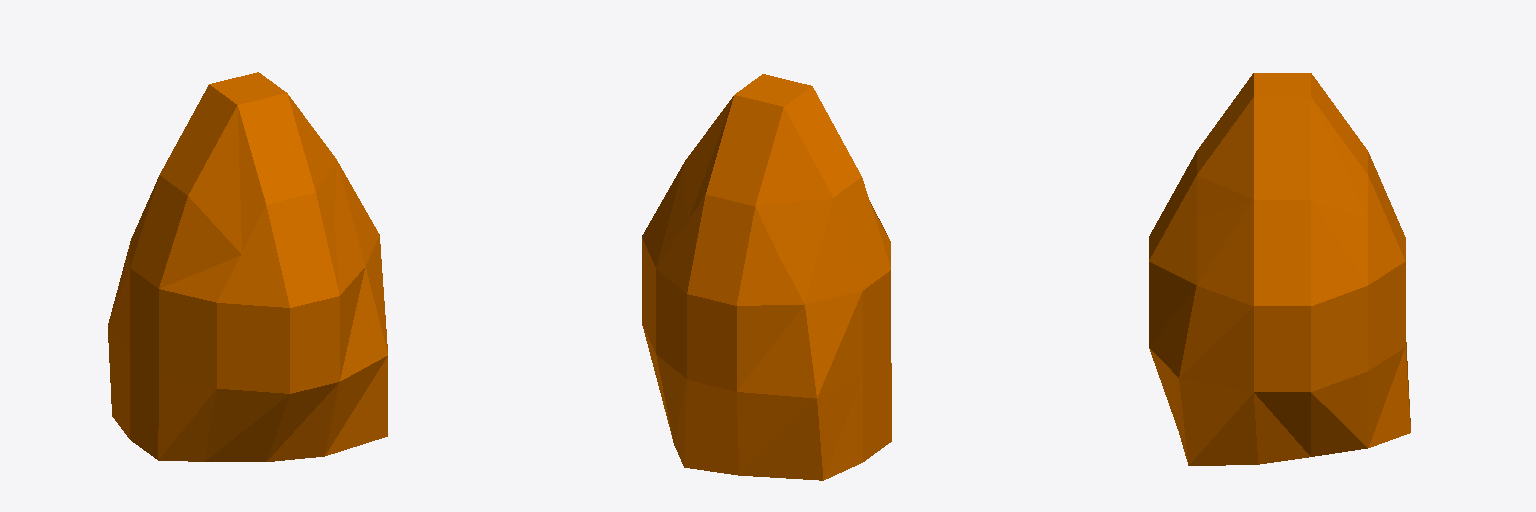
3 views of the same model, side by side, from view 1: azimuth 30°, elevation 25°; view 2: azimuth 150°, elevation 25°; view 3: azimuth 270°, elevation 25° (orthographic).
Parts seen in each view (by area): view 1: pCube1; view 2: pCube1; view 3: pCube1.
Boxes of the visible parts, box(x1,y1,x2,y2) form: pCube1: box(108, 72, 387, 461); pCube1: box(642, 74, 891, 480); pCube1: box(1149, 73, 1410, 465).
Bounding box in the file's own units: 2.33 × 3.38 × 2.39.
Materials: 1 (1 with a texture image).